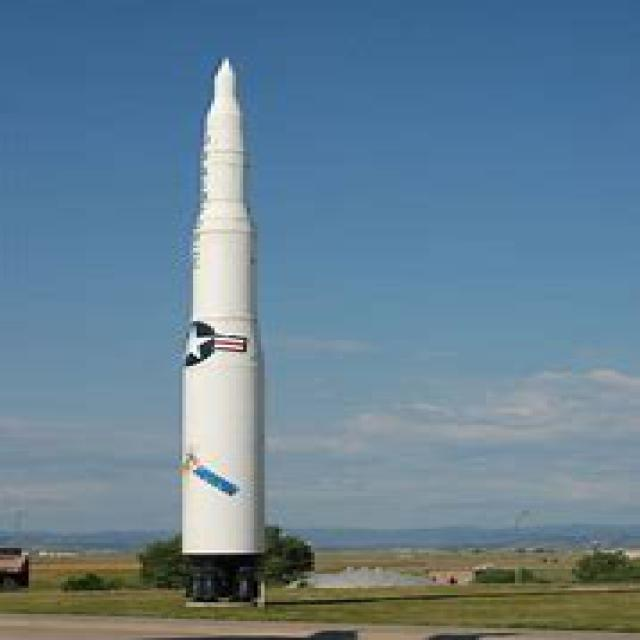missile: (180, 55, 268, 611)
